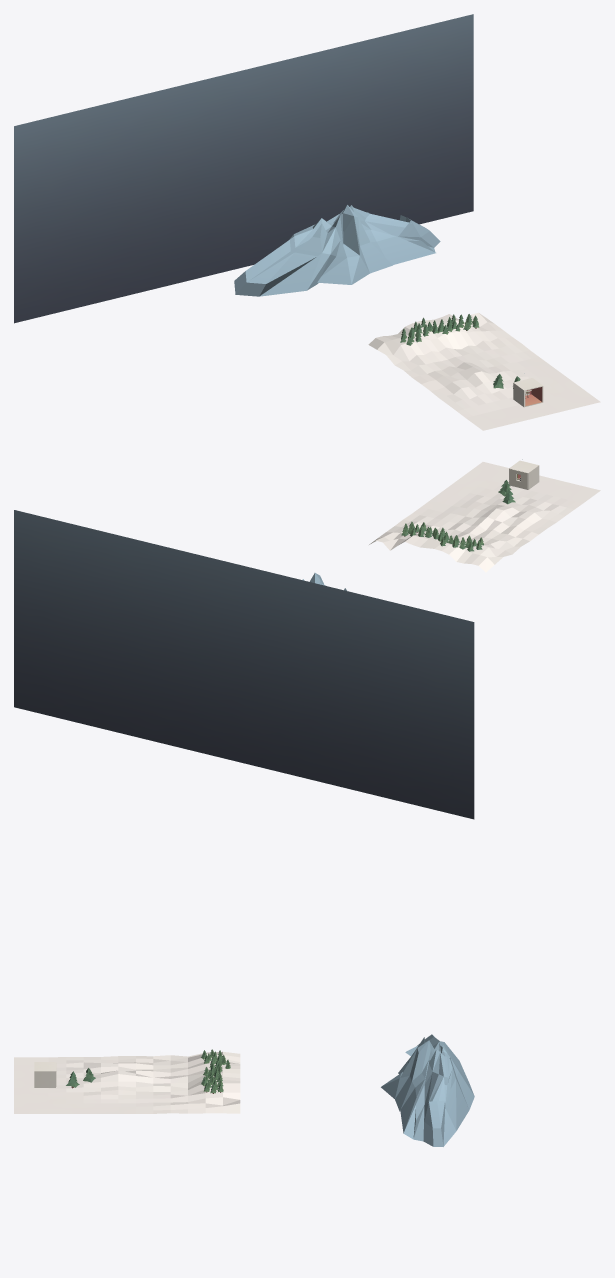
The picture shows the model from 3 angles, top to bottom: view 1: azimuth 30°, elevation 25°; view 2: azimuth 150°, elevation 25°; view 3: azimuth 270°, elevation 25°; orthographic projection.
Parts seen in each view (by area): view 1: Forest.003, Home.001; view 2: Forest.003, Home.001; view 3: Forest.003, Home.001.
Part boxes in pixels (x1,y1,x2,y2): Forest.003: (14, 14, 600, 430); Home.001: (513, 378, 543, 407); Forest.003: (14, 462, 600, 819); Home.001: (509, 460, 539, 489); Forest.003: (14, 1034, 474, 1146); Home.001: (34, 1062, 56, 1087).
Size of the model in its own units: 37.01 by 15.17 by 41.55.
